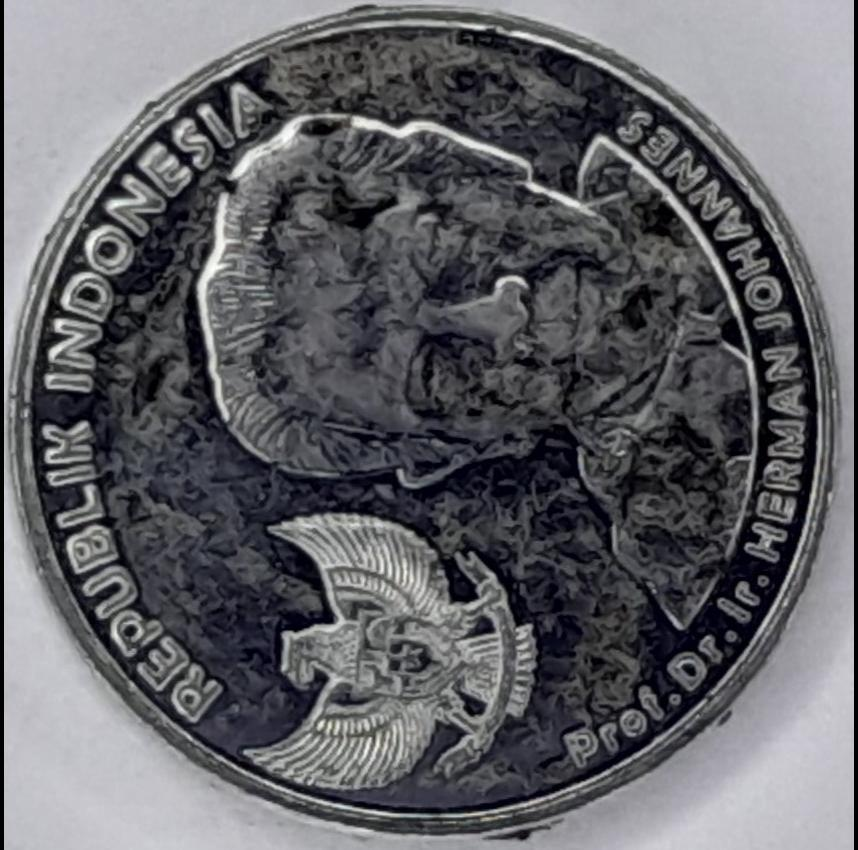coin_100_e2016: (7, 0, 843, 841)
